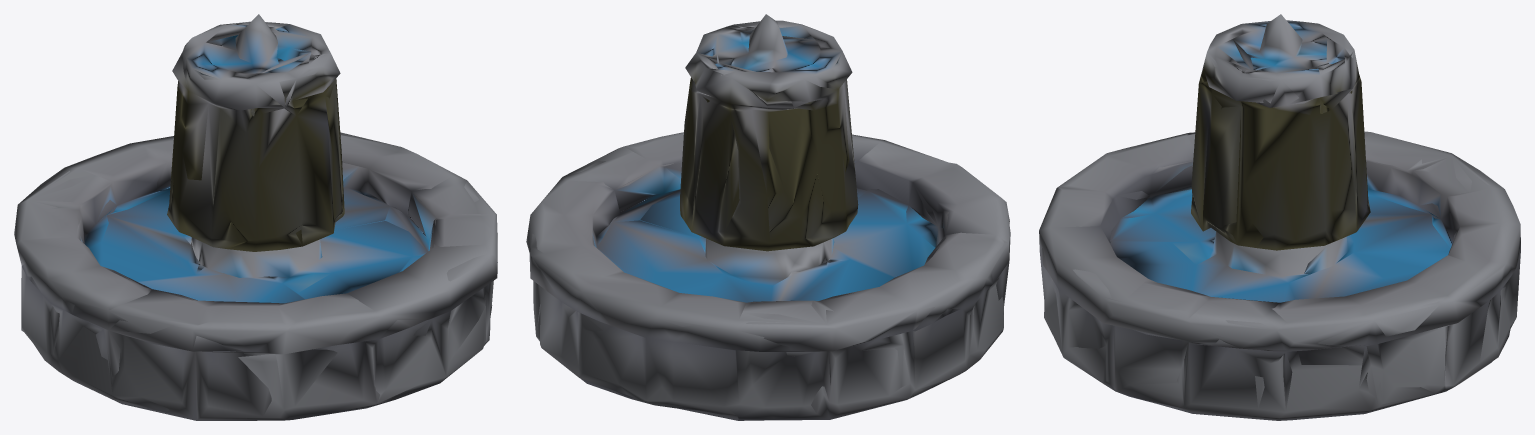
Rendered from gen3d-magic-fountain-lod0.glb.
3 renders of one model, left to right at view 1: azimuth 30°, elevation 25°; view 2: azimuth 150°, elevation 25°; view 3: azimuth 270°, elevation 25°, orthographic.
Visible parts, largest first — view 1: part_0; view 2: part_0; view 3: part_0.
Part boxes in pixels (<box>): part_0: <box>14,14,497,420</box>; part_0: <box>526,14,1010,420</box>; part_0: <box>1039,14,1520,420</box>.
Bounding box in the file's own units: 1.4 × 1 × 1.4.
